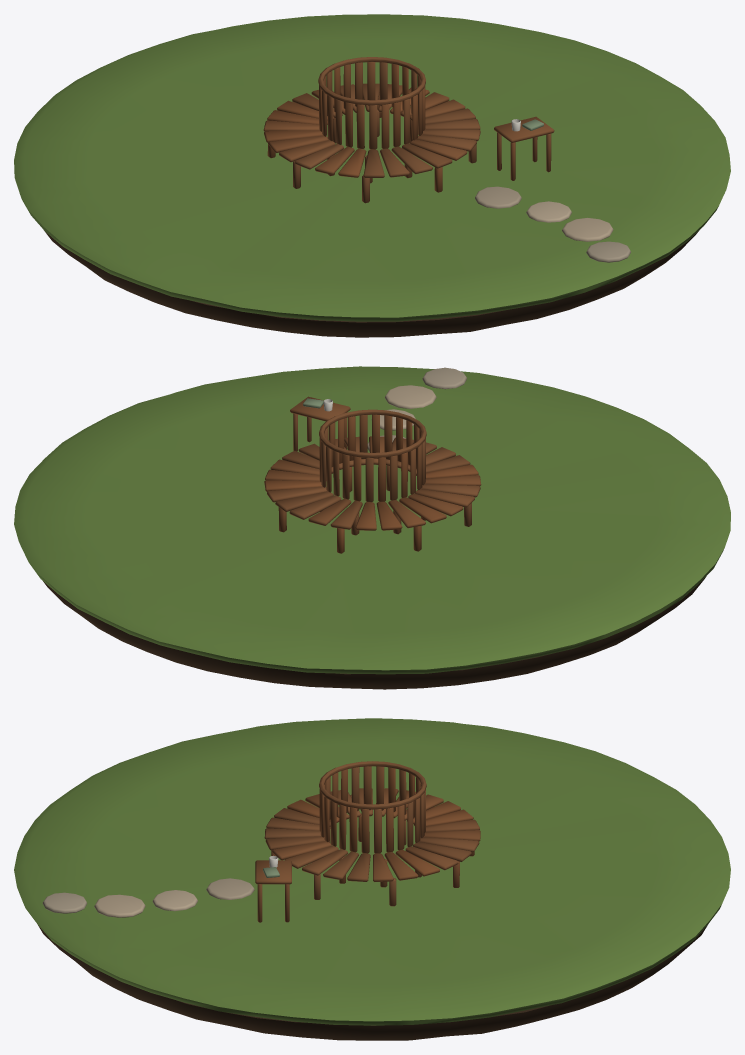
Rendered from title_garden.glb.
3 views of the same model, one above another, from view 1: azimuth 30°, elevation 25°; view 2: azimuth 150°, elevation 25°; view 3: azimuth 270°, elevation 25° (orthographic).
Parts seen in each view (by area): view 1: Sammel Blatt, Sammel Holz, Sammel Putz, Sammel Stein; view 2: Sammel Blatt, Sammel Holz, Sammel Putz, Sammel Stein; view 3: Sammel Blatt, Sammel Holz, Sammel Putz, Sammel Stein.
Part boxes in pixels (bbox=[...]): Sammel Blatt: bbox=[14, 14, 730, 321]; Sammel Holz: bbox=[263, 57, 554, 203]; Sammel Putz: bbox=[44, 230, 698, 337]; Sammel Stein: bbox=[475, 186, 630, 262]; Sammel Blatt: bbox=[14, 366, 730, 674]; Sammel Holz: bbox=[264, 396, 481, 553]; Sammel Putz: bbox=[43, 576, 706, 689]; Sammel Stein: bbox=[367, 367, 466, 451]; Sammel Blatt: bbox=[14, 718, 730, 1025]; Sammel Holz: bbox=[255, 761, 480, 922]; Sammel Putz: bbox=[38, 925, 707, 1040]; Sammel Stein: bbox=[42, 878, 254, 917].
Size of the model in its own units: 6.28 by 1.64 by 6.29.
